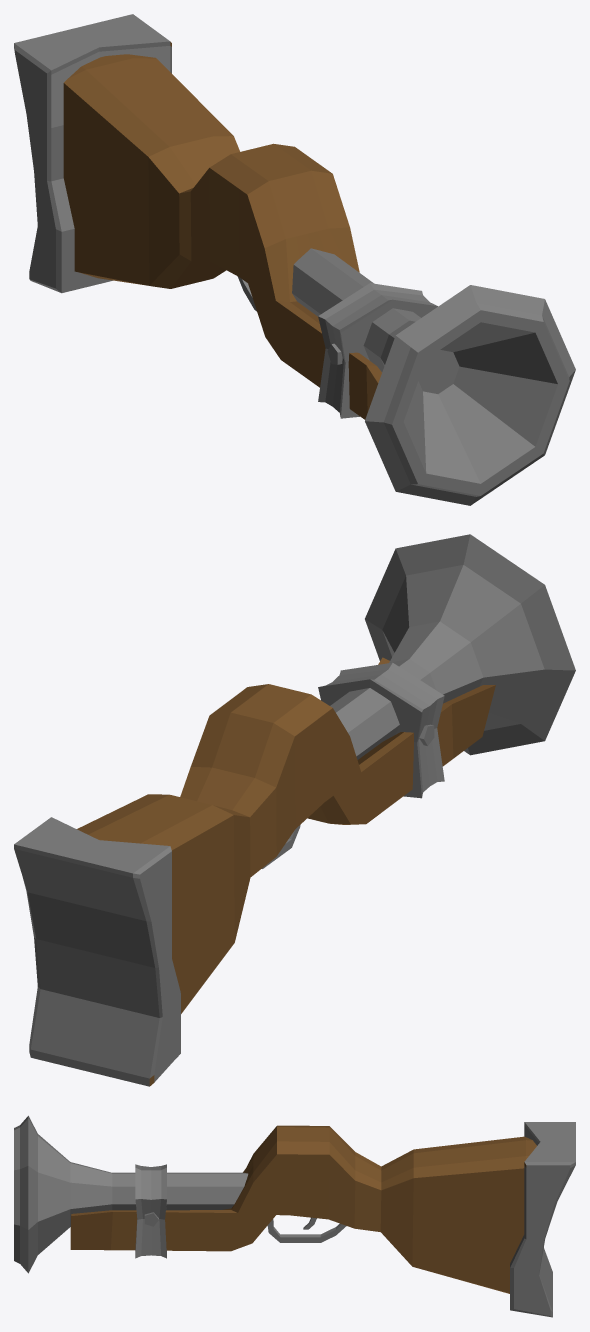
Rendered from musket.fbx.
3 renders of one model, top to bottom at view 1: azimuth 30°, elevation 25°; view 2: azimuth 150°, elevation 25°; view 3: azimuth 270°, elevation 25°, orthographic. The views are drawn at different scales.
Visible parts, largest first — view 1: мушкет, дуло; view 2: мушкет, дуло; view 3: мушкет, дуло.
Boxes of the visible parts, x1,y1,x2,y2 form: мушкет: (14,14,381,419); дуло: (292,248,575,505); мушкет: (14,657,495,1086); дуло: (318,534,575,798); мушкет: (70,1122,575,1317); дуло: (14,1115,248,1273).
Size of the model in its own units: 210 by 247 by 702.
